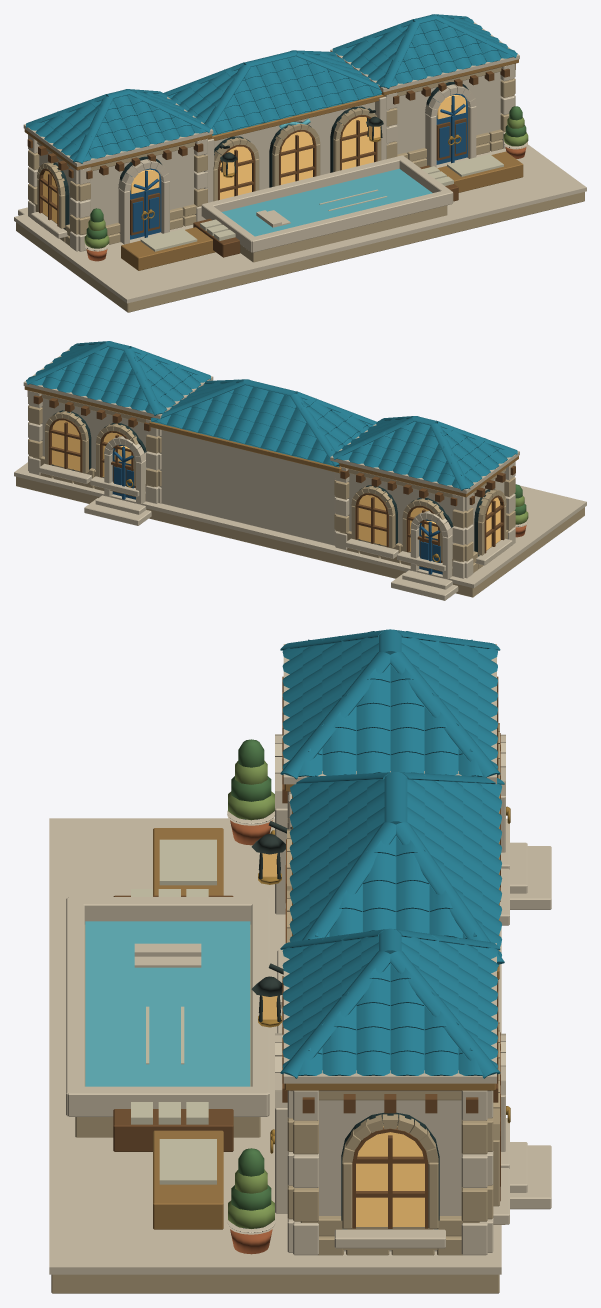
3 views of the same model, one above another, from view 1: azimuth 30°, elevation 25°; view 2: azimuth 150°, elevation 25°; view 3: azimuth 270°, elevation 25° (orthographic). The views are drawn at different scales.
Visible parts, largest first — view 1: harbor_onsen_1_geometry, harbor_onsen_1_geometry ceramic; view 2: harbor_onsen_1_geometry, harbor_onsen_1_geometry ceramic; view 3: harbor_onsen_1_geometry, harbor_onsen_1_geometry ceramic.
Boxes of the visible parts, x1,y1,x2,y2 form: harbor_onsen_1_geometry: (14,22,586,312); harbor_onsen_1_geometry ceramic: (26,14,517,163); harbor_onsen_1_geometry: (14,349,586,600); harbor_onsen_1_geometry ceramic: (26,341,517,490); harbor_onsen_1_geometry: (49,644,551,1293); harbor_onsen_1_geometry ceramic: (280,629,504,1078).
Size of the model in its own units: 1.94 by 0.5667 by 0.918.
